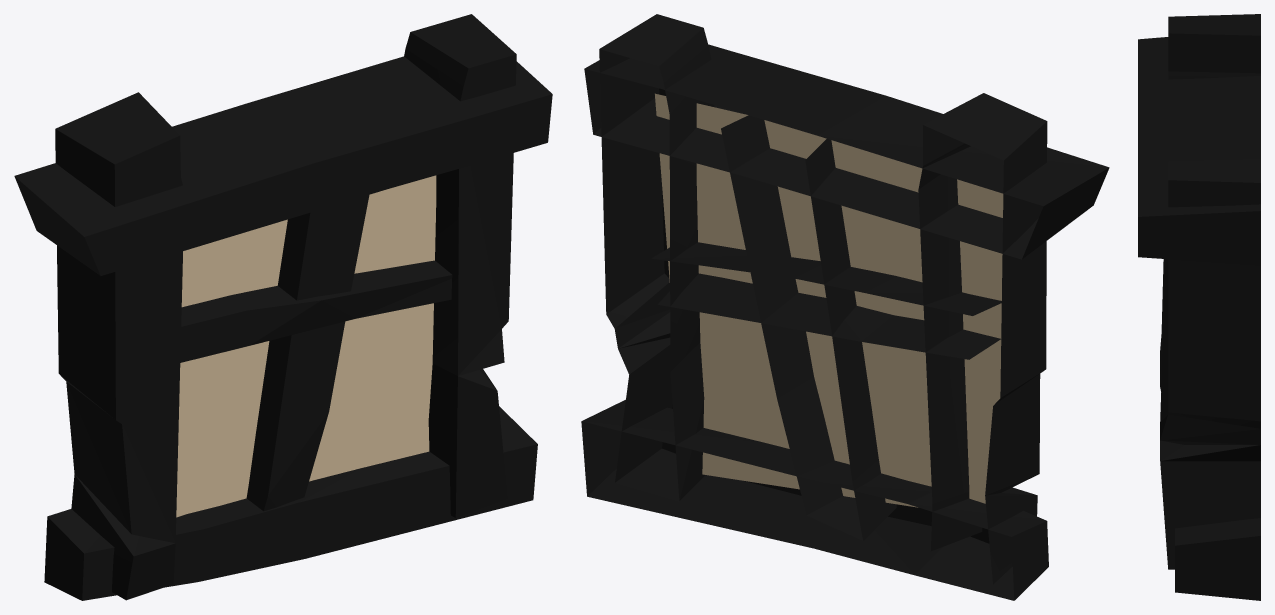
Rendered from WF_LP_HT_Build_Window.005.fbx.
The picture shows the model from 3 angles, left to right: view 1: azimuth 30°, elevation 25°; view 2: azimuth 150°, elevation 25°; view 3: azimuth 270°, elevation 25°; orthographic projection. The views are drawn at different scales.
Visible parts, largest first — view 1: WF_LP_HT_Build_Window.005; view 2: WF_LP_HT_Build_Window.005; view 3: WF_LP_HT_Build_Window.005.
Part boxes in pixels (x1,y1,x2,y2): WF_LP_HT_Build_Window.005: (14, 14, 552, 600); WF_LP_HT_Build_Window.005: (581, 14, 1109, 600); WF_LP_HT_Build_Window.005: (1138, 14, 1260, 600).
Bounding box in the file's own units: 1.2 × 1.12 × 0.3005.
